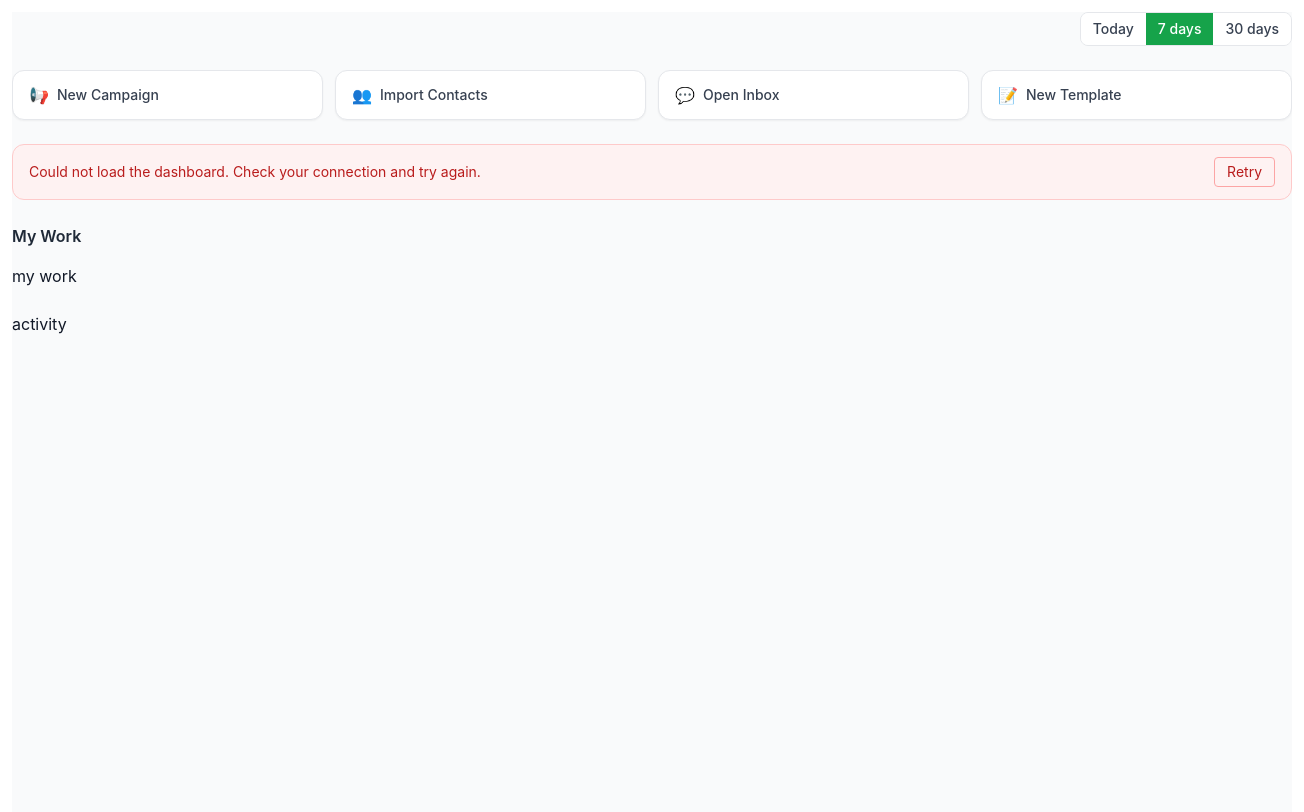
Dashboard v2 › shows an error with Retry that refetches
Check: the text "Could not load the dashboard" is shown, box [29,163,481,180]
Click the button "Retry" at (1245, 172), box [1214,157,1275,187]
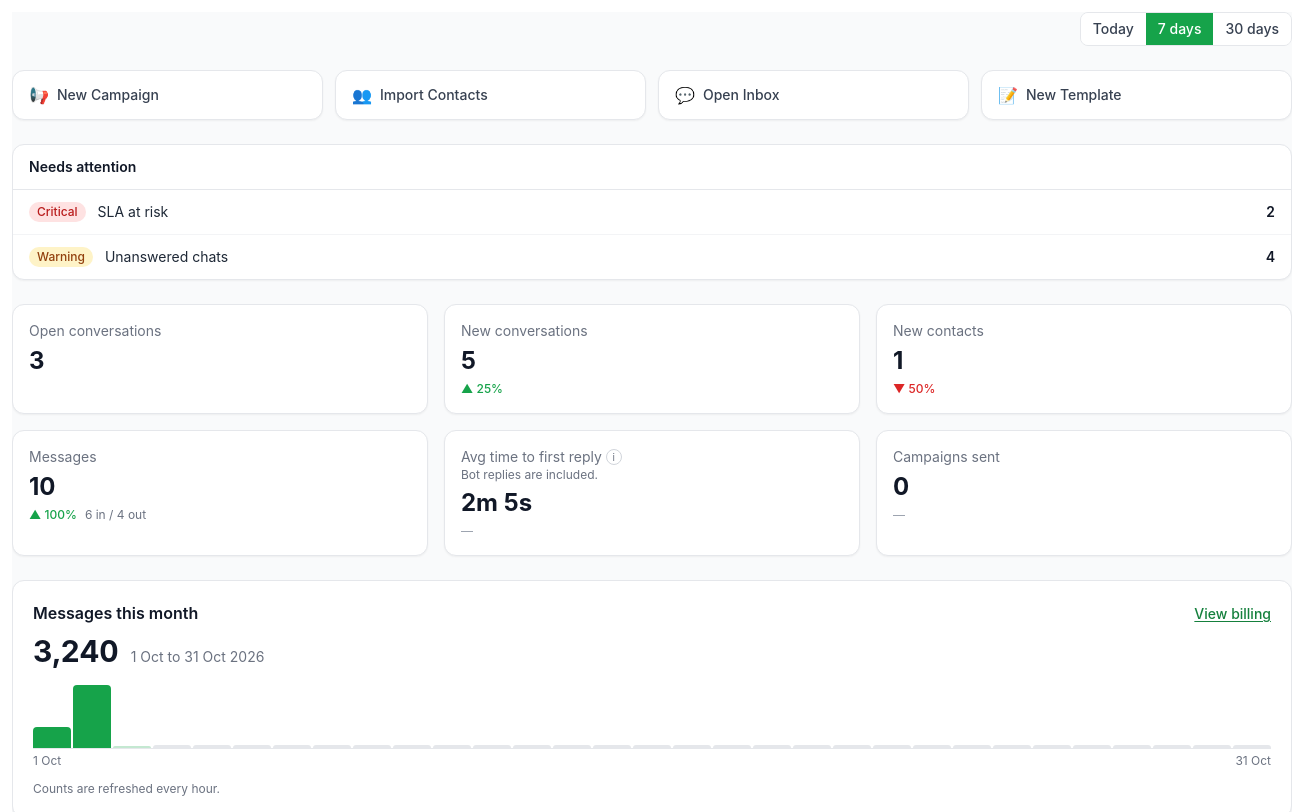
Check: the link with test id "kpi-open" is shown, box [12,304,428,414]
